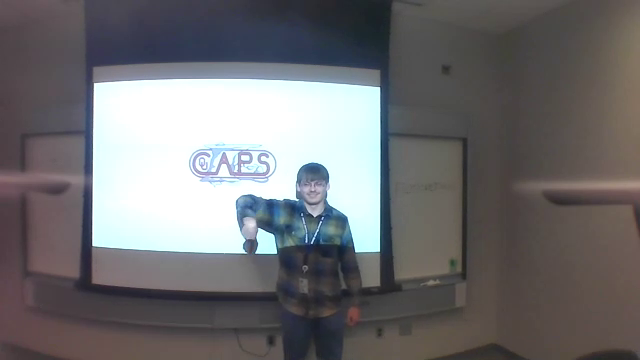down: (235, 222, 259, 258)
